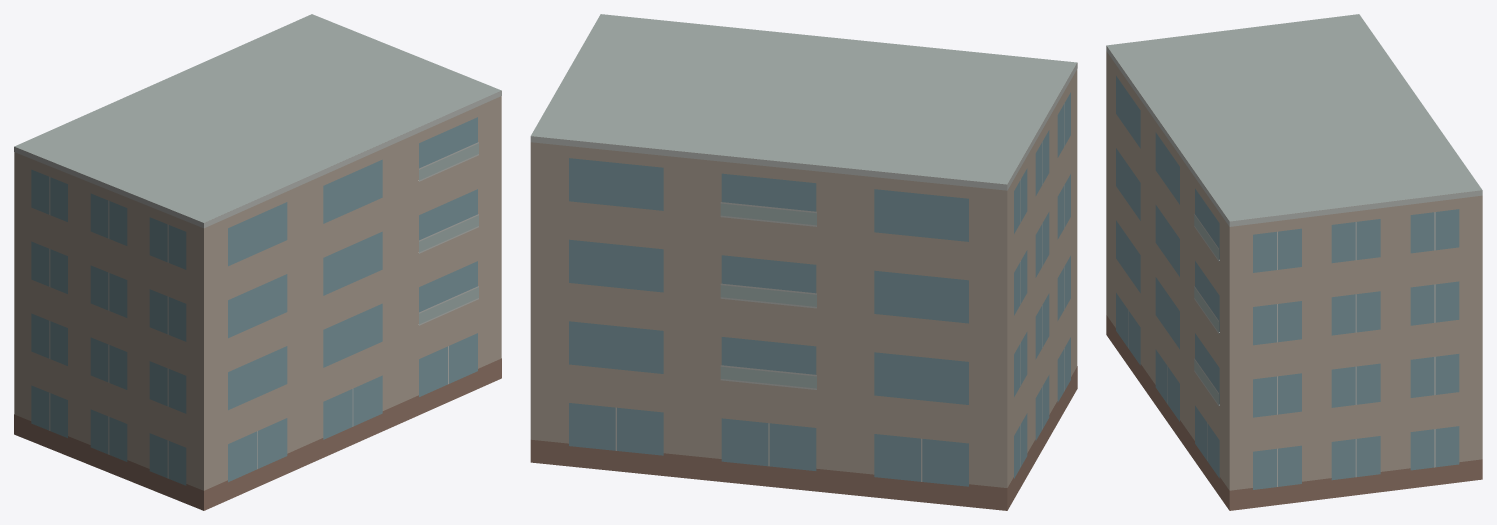
File: survey-upis-32963387.glb
The picture shows the model from 3 angles, left to right: view 1: azimuth 30°, elevation 25°; view 2: azimuth 150°, elevation 25°; view 3: azimuth 270°, elevation 25°; orthographic projection. The views are drawn at different scales.
Parts seen in each view (by area): view 1: survey-upis-32963387.tmp; view 2: survey-upis-32963387.tmp; view 3: survey-upis-32963387.tmp.
Part boxes in pixels (box(x1,y1,x2,y2)): survey-upis-32963387.tmp: box(14, 14, 501, 510); survey-upis-32963387.tmp: box(530, 14, 1077, 510); survey-upis-32963387.tmp: box(1106, 14, 1482, 510).
Size of the model in its own units: 20.07 by 13.04 by 15.38.
